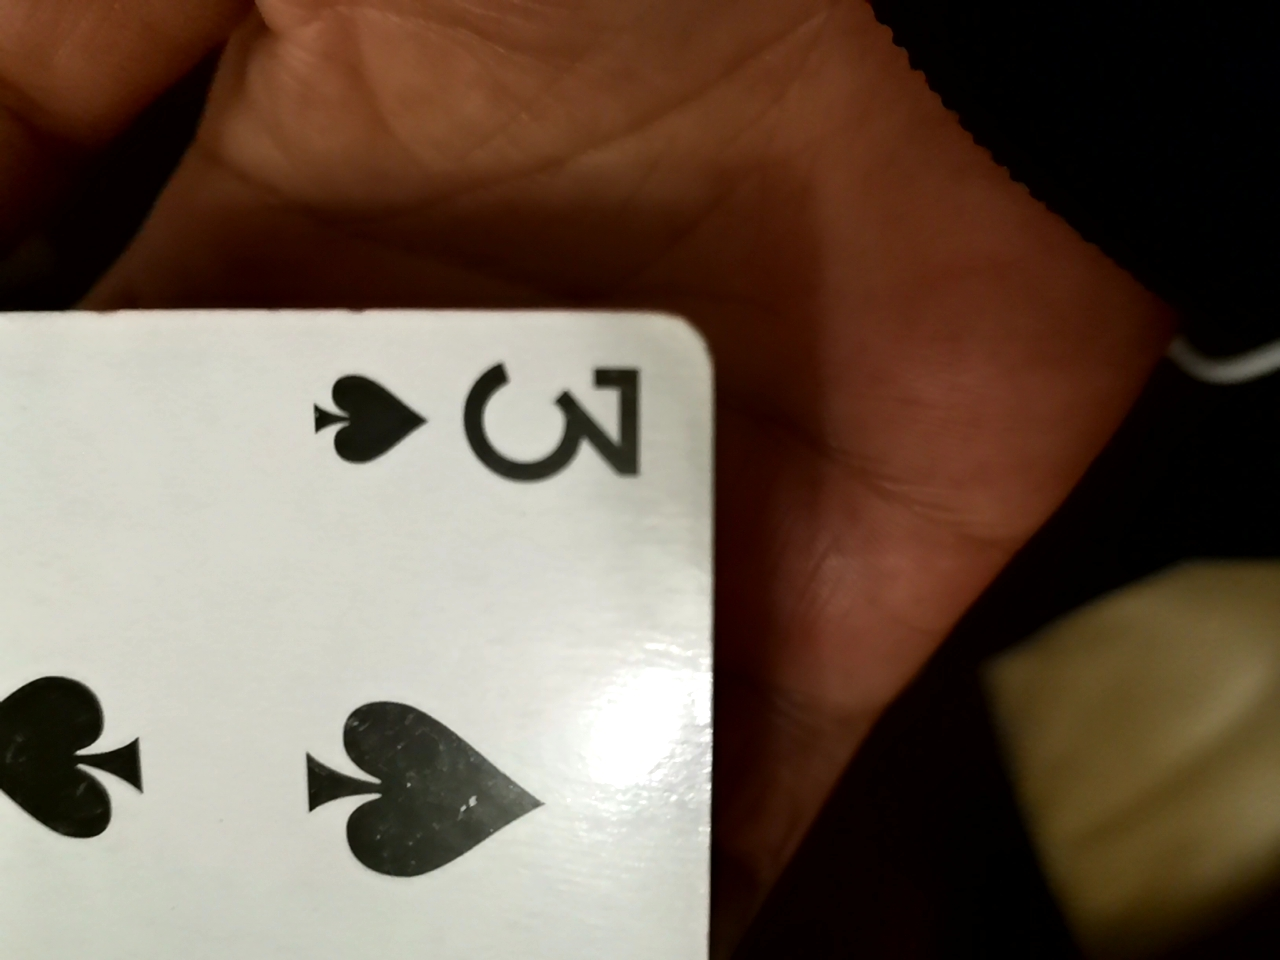ht 3: (4, 314, 737, 955)
